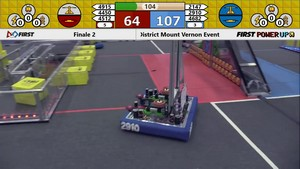cube: (9, 77, 51, 106), (67, 66, 90, 85), (76, 55, 95, 71), (80, 47, 97, 58)
